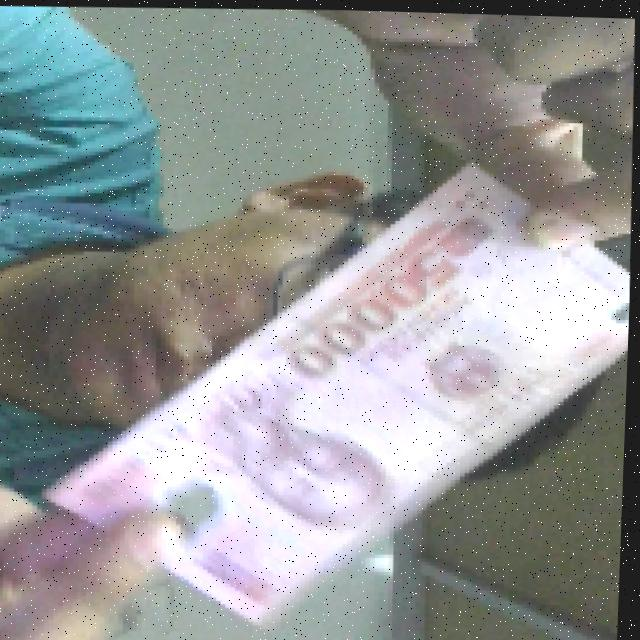50 000 VND: (30, 140, 636, 640)
